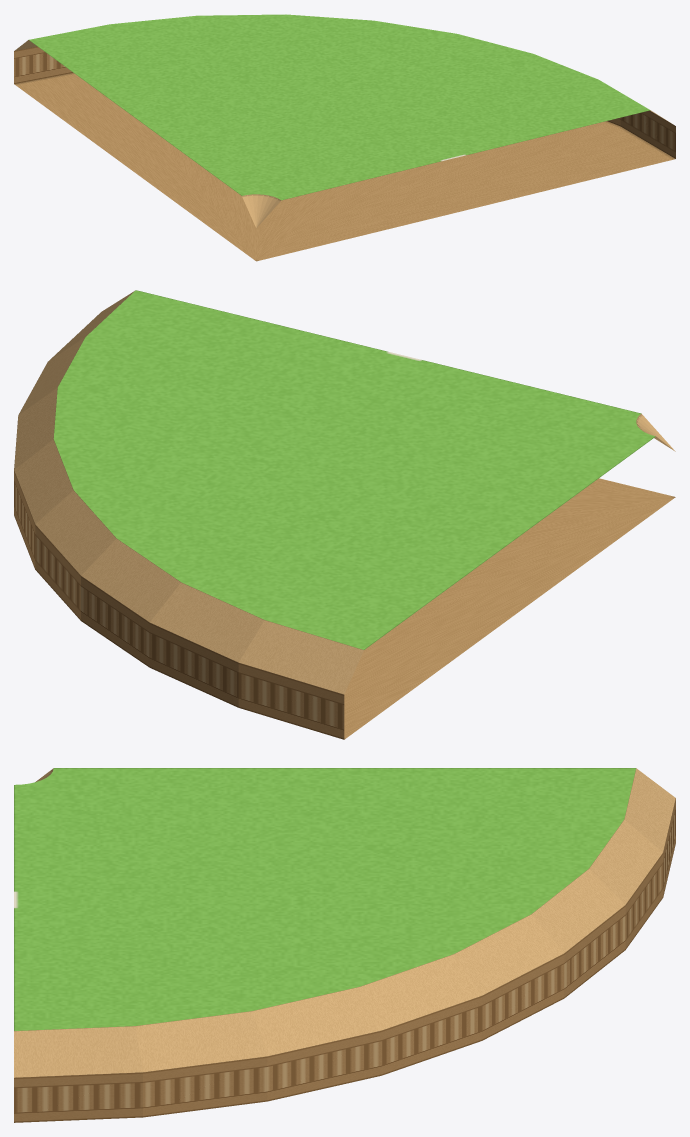
File: road_corner.obj
3 renders of one model, top to bottom at view 1: azimuth 30°, elevation 25°; view 2: azimuth 150°, elevation 25°; view 3: azimuth 270°, elevation 25°, orthographic. The views are drawn at different scales.
Bounding box in the file's own units: 2 × 0.25 × 2.
1 material, 1 textured.
